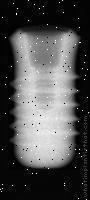Keystone Dental: (8, 26, 82, 170)
